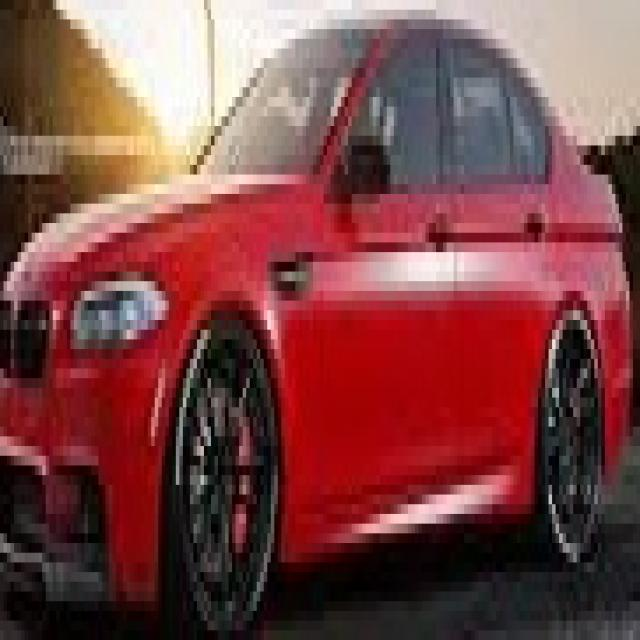red: (3, 9, 632, 640)
